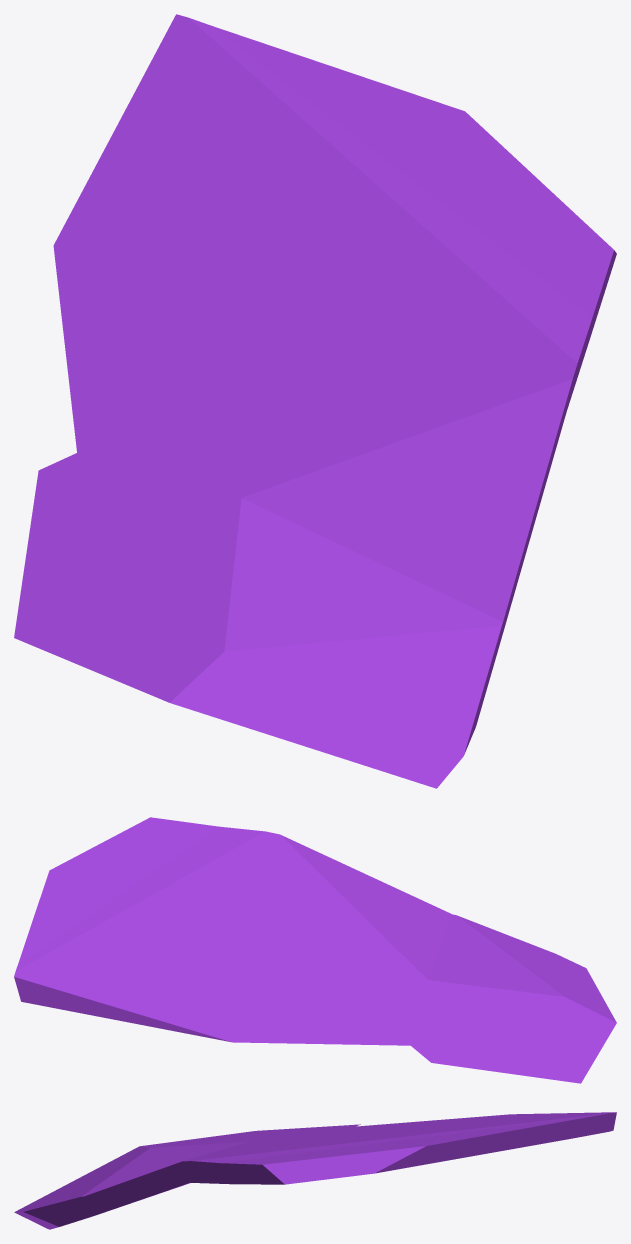
Rendered from Glass_101_2_7_chunks.fbx.
The picture shows the model from 3 angles, top to bottom: view 1: azimuth 30°, elevation 25°; view 2: azimuth 150°, elevation 25°; view 3: azimuth 270°, elevation 25°; orthographic projection. The views are drawn at different scales.
Visible parts, largest first — view 1: Glass_101_2_7_5, Glass_101_2_7_1, Glass_101_2_7_3, Glass_101_2_7_6, Glass_101_2_7_7, Glass_101_2_7_2, Glass_101_2_7_4, Glass_101_2_7_9, Glass_101_2_7_12, Glass_101_2_7_8, Glass_101_2_7_11, Glass_101_2_7_0 (+1 smaller); view 2: Glass_101_2_7_5, Glass_101_2_7_1, Glass_101_2_7_3, Glass_101_2_7_2, Glass_101_2_7_4, Glass_101_2_7_12, Glass_101_2_7_9, Glass_101_2_7_7, Glass_101_2_7_11, Glass_101_2_7_6, Glass_101_2_7_8, Glass_101_2_7_0 (+1 smaller); view 3: Glass_101_2_7_3, Glass_101_2_7_0, Glass_101_2_7_7, Glass_101_2_7_10, Glass_101_2_7_5, Glass_101_2_7_12, Glass_101_2_7_6, Glass_101_2_7_11, Glass_101_2_7_1, Glass_101_2_7_9, Glass_101_2_7_2, Glass_101_2_7_4 (+1 smaller).
Part boxes in pixels (x1=…): Glass_101_2_7_5: x1=14, y1=438, x2=352, y2=688; Glass_101_2_7_1: x1=33, y1=247, x2=374, y2=509; Glass_101_2_7_3: x1=122, y1=14, x2=398, y2=220; Glass_101_2_7_6: x1=137, y1=604, x2=475, y2=788; Glass_101_2_7_7: x1=335, y1=478, x2=527, y2=740; Glass_101_2_7_2: x1=53, y1=117, x2=229, y2=385; Glass_101_2_7_4: x1=221, y1=157, x2=419, y2=344; Glass_101_2_7_9: x1=349, y1=330, x2=558, y2=547; Glass_101_2_7_12: x1=377, y1=153, x2=576, y2=340; Glass_101_2_7_8: x1=244, y1=403, x2=444, y2=559; Glass_101_2_7_11: x1=466, y1=292, x2=594, y2=473; Glass_101_2_7_0: x1=380, y1=83, x2=509, y2=239; Glass_101_2_7_5: x1=376, y1=953, x2=609, y2=1083; Glass_101_2_7_1: x1=212, y1=915, x2=465, y2=1067; Glass_101_2_7_3: x1=14, y1=896, x2=186, y2=1019; Glass_101_2_7_2: x1=111, y1=967, x2=352, y2=1044; Glass_101_2_7_4: x1=105, y1=889, x2=275, y2=972; Glass_101_2_7_12: x1=80, y1=830, x2=272, y2=913; Glass_101_2_7_9: x1=252, y1=865, x2=396, y2=928; Glass_101_2_7_7: x1=372, y1=889, x2=543, y2=961; Glass_101_2_7_11: x1=208, y1=825, x2=346, y2=875; Glass_101_2_7_6: x1=490, y1=949, x2=616, y2=1035; Glass_101_2_7_8: x1=331, y1=903, x2=446, y2=974; Glass_101_2_7_0: x1=39, y1=854, x2=178, y2=901; Glass_101_2_7_3: x1=420, y1=1112, x2=616, y2=1147; Glass_101_2_7_0: x1=349, y1=1136, x2=519, y2=1175; Glass_101_2_7_7: x1=30, y1=1165, x2=169, y2=1226; Glass_101_2_7_10: x1=203, y1=1154, x2=326, y2=1184; Glass_101_2_7_5: x1=148, y1=1126, x2=335, y2=1165; Glass_101_2_7_12: x1=265, y1=1142, x2=376, y2=1179; Glass_101_2_7_6: x1=14, y1=1143, x2=162, y2=1229; Glass_101_2_7_11: x1=144, y1=1150, x2=266, y2=1186; Glass_101_2_7_1: x1=267, y1=1122, x2=432, y2=1145; Glass_101_2_7_9: x1=115, y1=1144, x2=296, y2=1201; Glass_101_2_7_2: x1=407, y1=1113, x2=569, y2=1127; Glass_101_2_7_4: x1=297, y1=1126, x2=448, y2=1144.
Bounding box in the file's own units: 854 × 430 × 1264.
